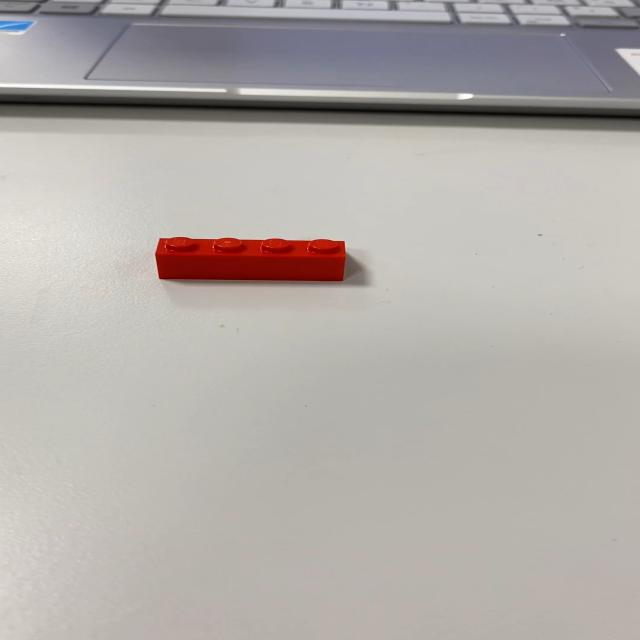P4x2x1: (154, 235, 348, 282)
